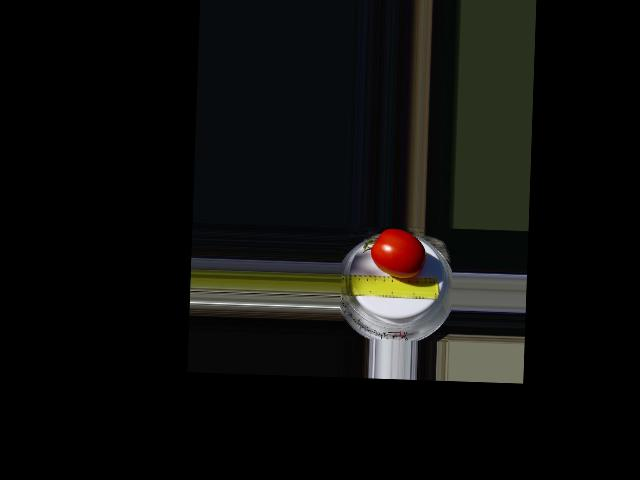tomato: (369, 227, 426, 279)
